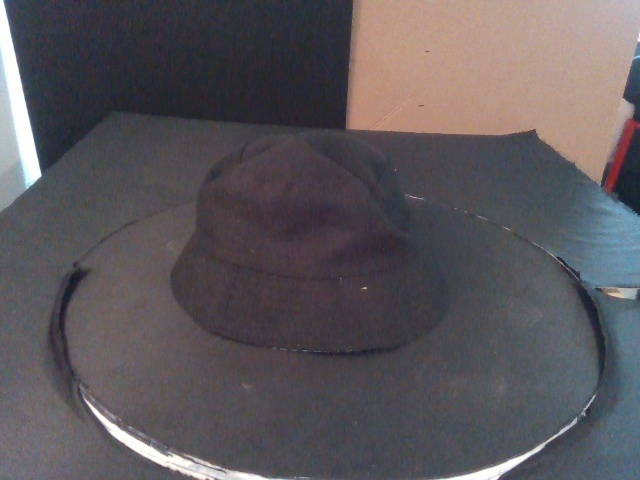hat: (169, 130, 450, 353)
